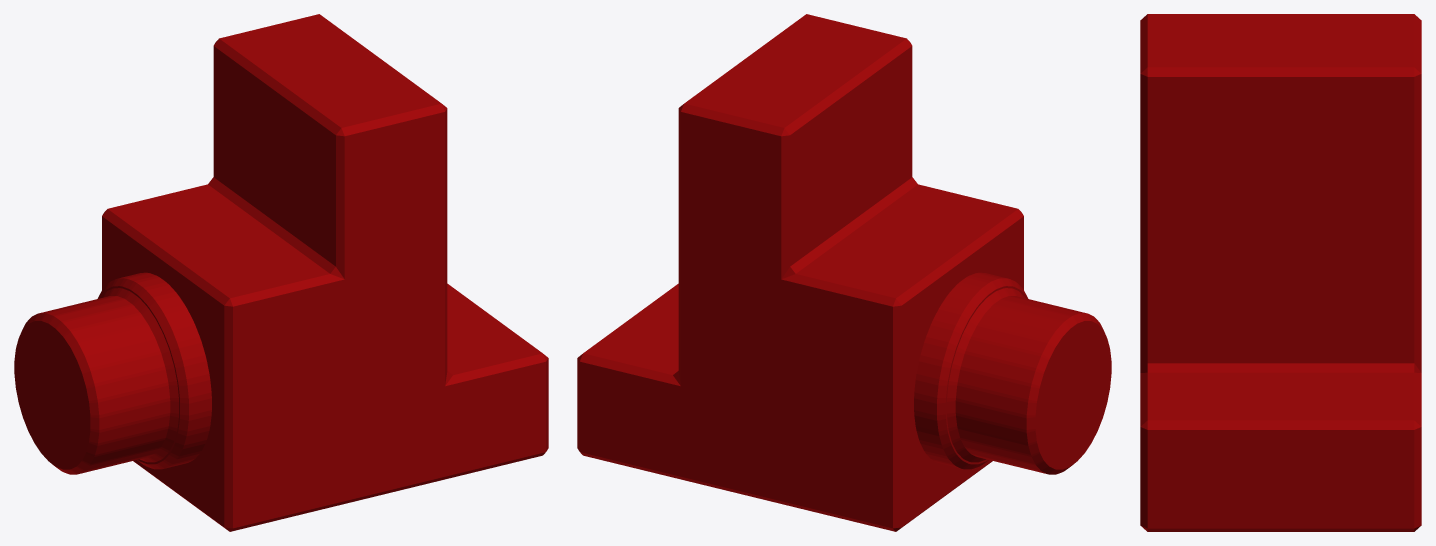
Rendered from assembly_sensor_part_red.dae.
3 views of the same model, side by side, from view 1: azimuth 30°, elevation 25°; view 2: azimuth 150°, elevation 25°; view 3: azimuth 270°, elevation 25° (orthographic). The views are drawn at different scales.
Visible parts, largest first — view 1: inputSensor; view 2: inputSensor; view 3: inputSensor.
Part boxes in pixels (x1,y1,x2,y2): inputSensor: (14,14,548,531); inputSensor: (577,14,1111,531); inputSensor: (1140,14,1421,531).
Bounding box in the file's own units: 0.1313 × 0.0674 × 0.1087.
